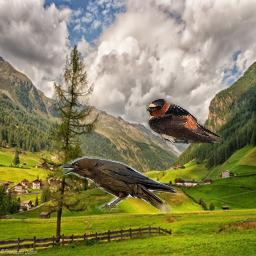Crow: (59, 155, 180, 213)
Swallow: (146, 98, 224, 144)
